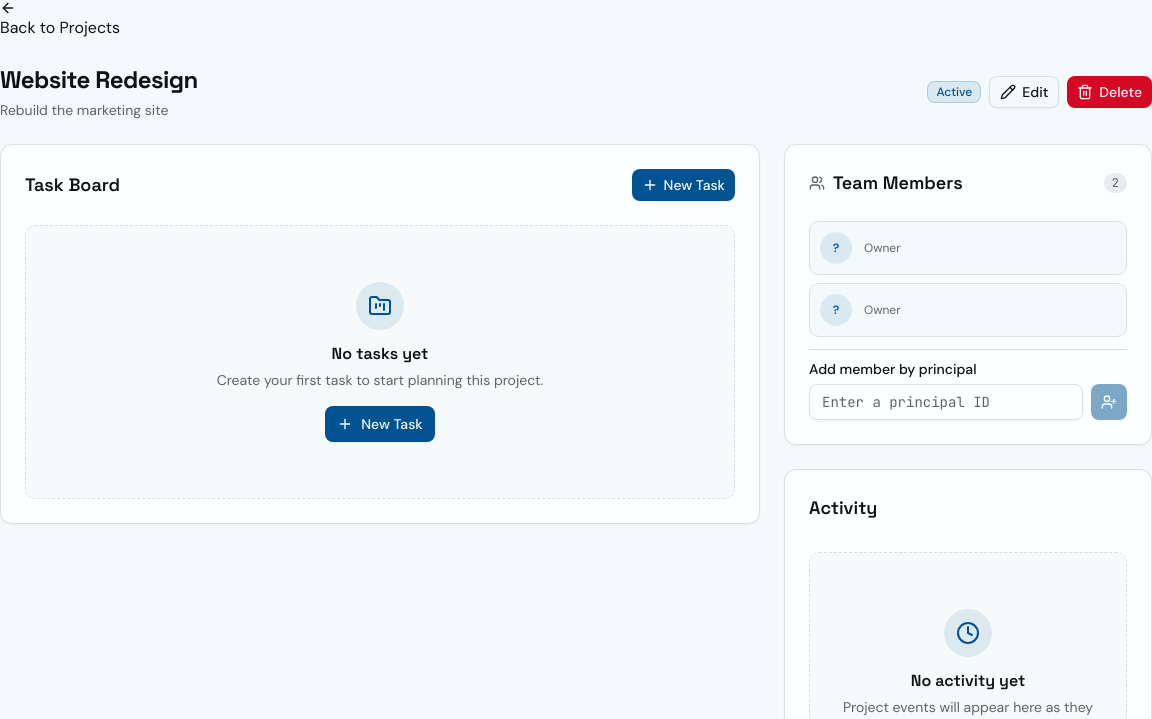
Test case: ProjectDetail › refreshes the activity log after editing the project
The image size is (1152, 719).
Expected: the heading "Website Redesign" is shown, [0,64,198,96]
Click the button "Edit": [1024, 92] box [989,76,1059,108]
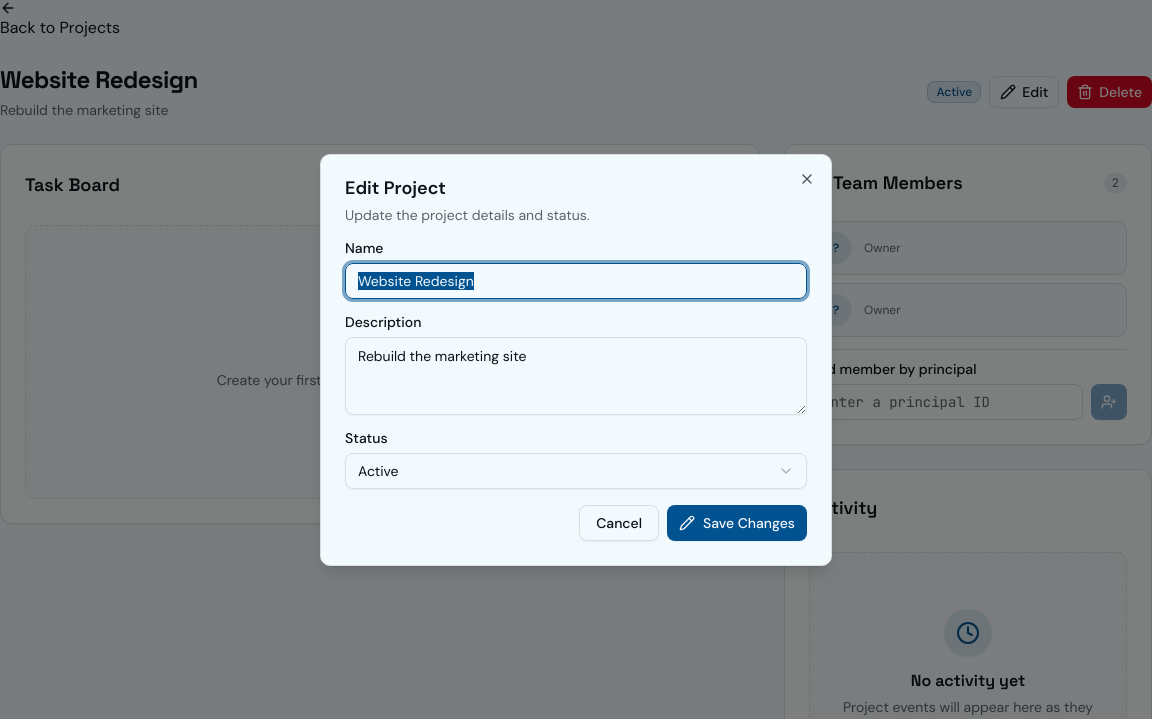
Expected: the heading "Edit Project" is shown, [345,176,446,200]
Replace the text in the field labelled "Name" with "Renamed": [576, 281] box [345,263,807,299]
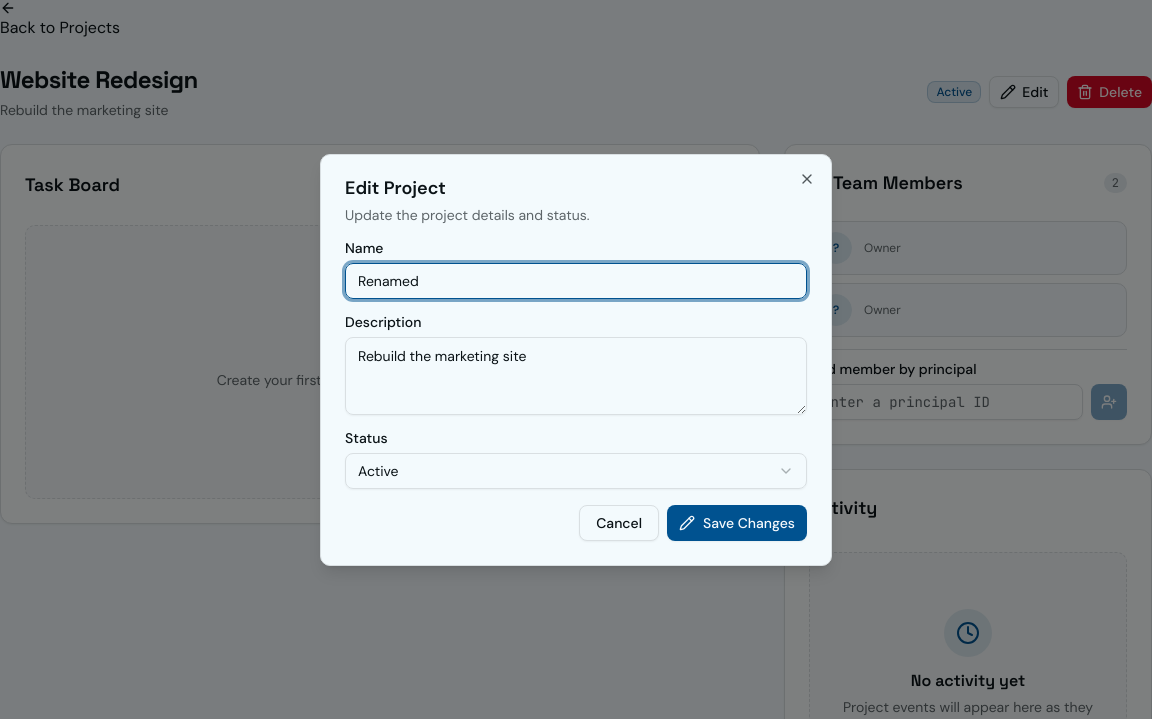
Click the button "Save Changes": [737, 523] box [667,505,807,541]
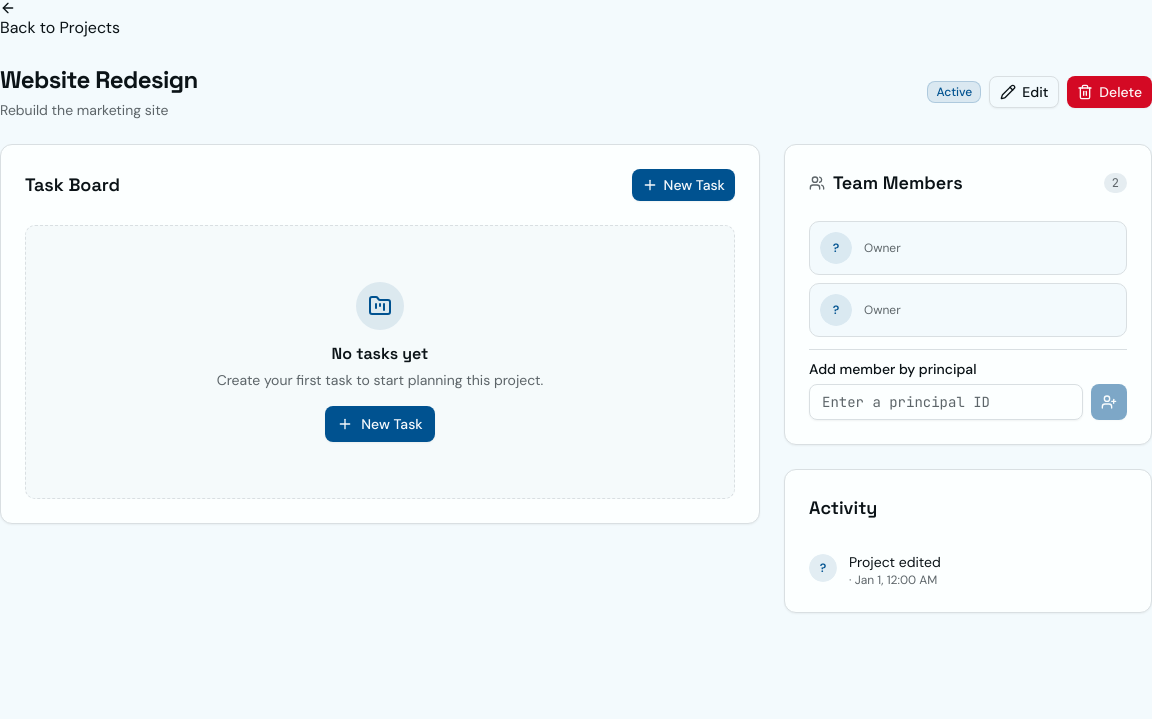
Expected: the text "Project edited" is shown, [849,553,941,571]
